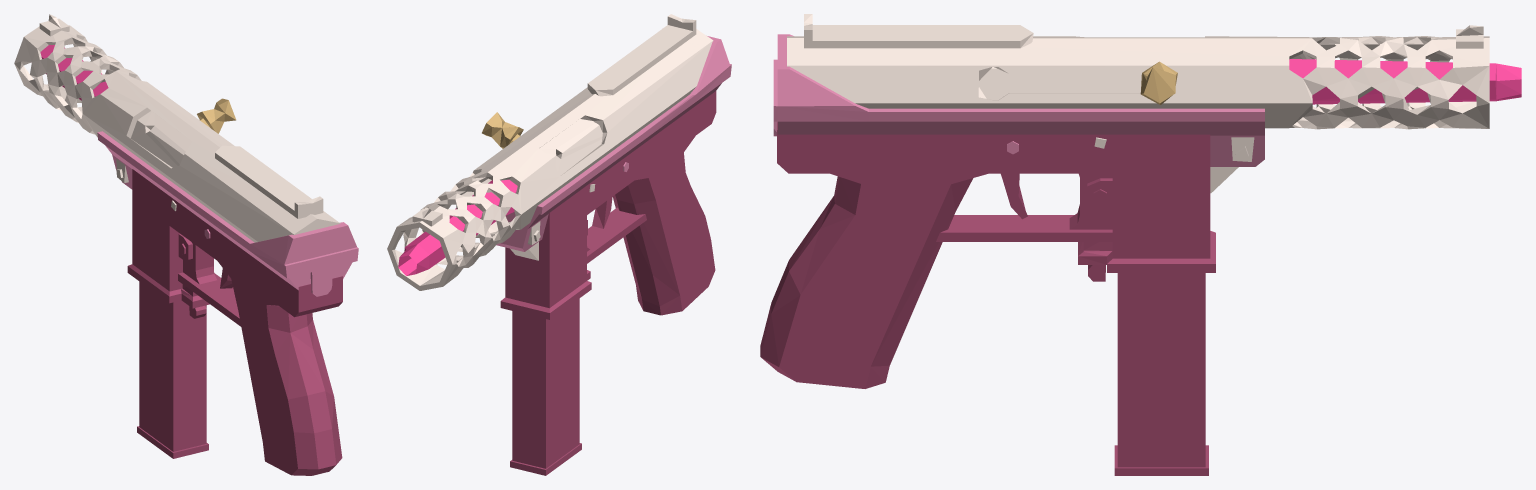
The model's file is MachinePistol_TEC9.obj.
3 views of the same model, side by side, from view 1: azimuth 30°, elevation 25°; view 2: azimuth 150°, elevation 25°; view 3: azimuth 270°, elevation 25° (orthographic). The views are drawn at different scales.
Visible parts, largest first — view 1: Mag, Panel, Body, Bolt, Accent; view 2: Mag, Panel, Body, Accent, Bolt, Grip; view 3: Mag, Panel, Body, Accent, Bolt.
Part boxes in pixels (left/top/right/bottom): Mag: left=127, top=169, right=342, bottom=475; Panel: left=14, top=14, right=340, bottom=242; Body: left=97, top=131, right=358, bottom=296; Bolt: left=197, top=98, right=236, bottom=133; Accent: left=40, top=45, right=108, bottom=100; Mag: left=500, top=91, right=716, bottom=475; Panel: left=387, top=14, right=713, bottom=290; Body: left=496, top=36, right=731, bottom=251; Accent: left=398, top=179, right=517, bottom=275; Bolt: left=482, top=112, right=523, bottom=148; Grip: left=592, top=197, right=612, bottom=228; Mag: left=760, top=122, right=1215, bottom=475; Panel: left=787, top=14, right=1489, bottom=193; Body: left=773, top=34, right=1264, bottom=166; Accent: left=1289, top=59, right=1521, bottom=104; Bolt: left=1140, top=61, right=1177, bottom=104.
Bounding box in the file's own units: 0.3248 × 1.09 × 1.7.
